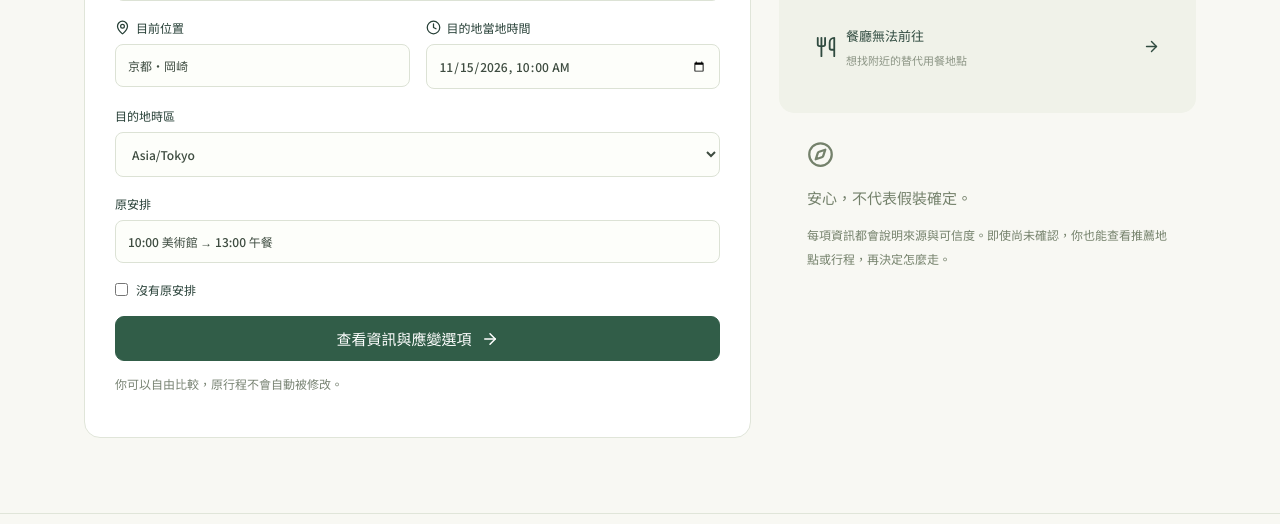
Test case: unknown recommendation can be selected and returned to comparison
(page scrolled)
Click the button "查看資訊與應變選項": (418, 338) [115,316,720,361]
(page scrolled)
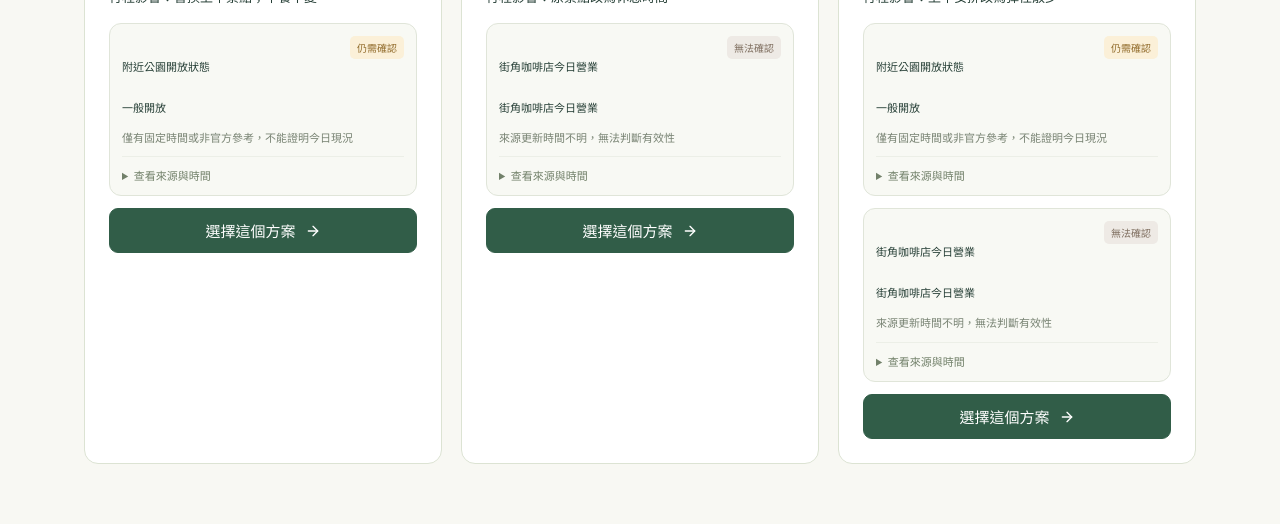
Result: the text "無法確認" below "原景點改為休息時間" is shown at [734,40,774,55]
Click the button "選擇這個方案" below "原景點改為休息時間": (640, 231) [486,208,794,253]
(page scrolled)
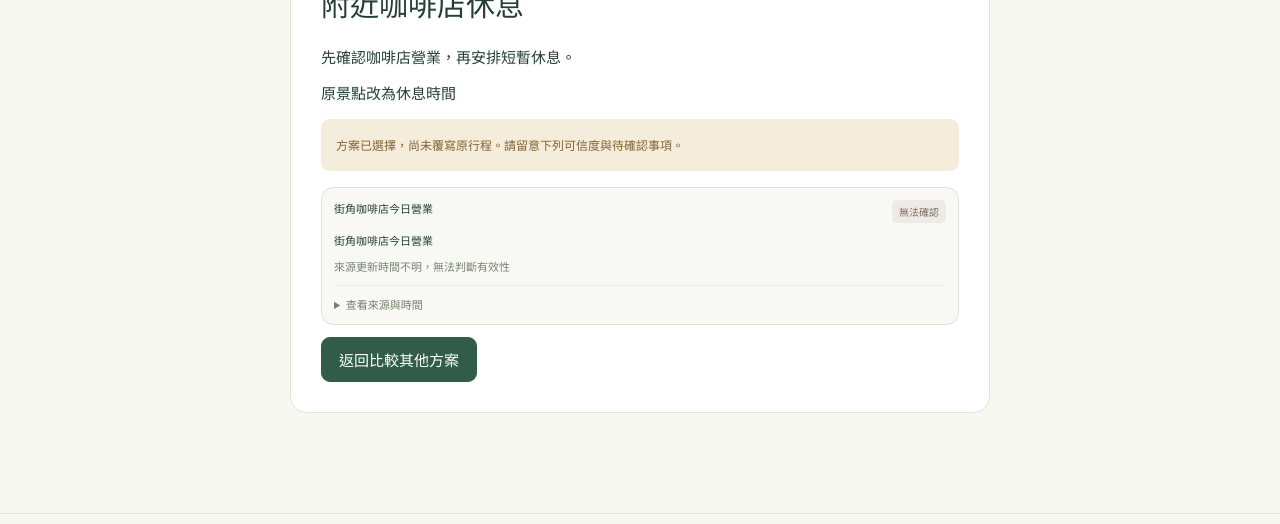
Result: the text "無法確認" is shown at [892,200,946,223]
Result: the text "方案已選擇，尚未覆寫原行程。請留意下列可信度與待確認事項。" is shown at [321,119,959,171]
Click the button "返回比較其他方案": (399, 360) [321,337,477,382]
(page scrolled)
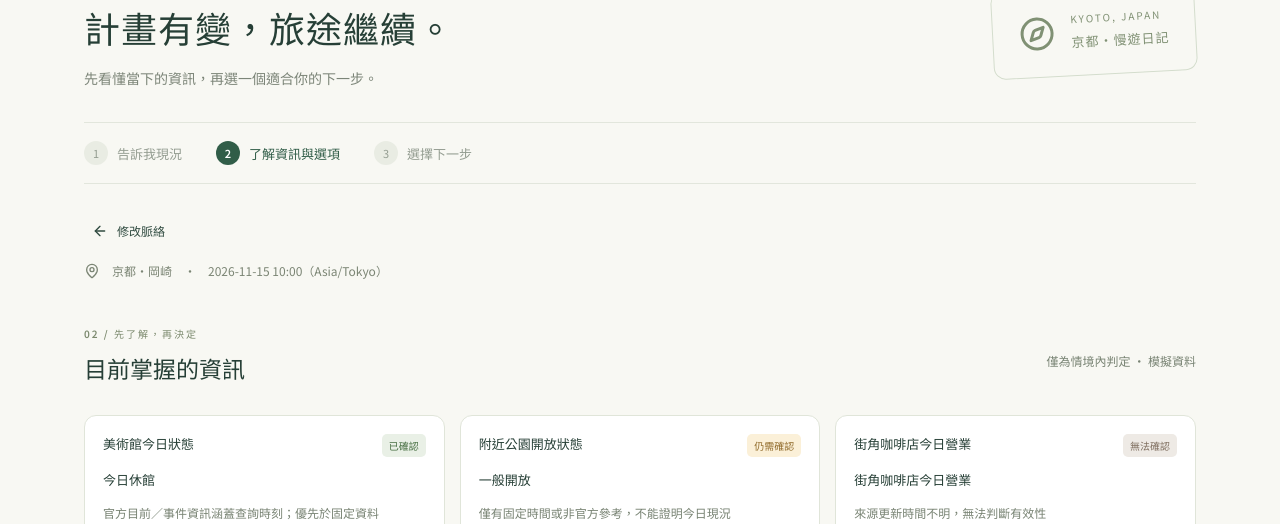
Click the button "修改脈絡": (128, 230) [84,214,173,247]
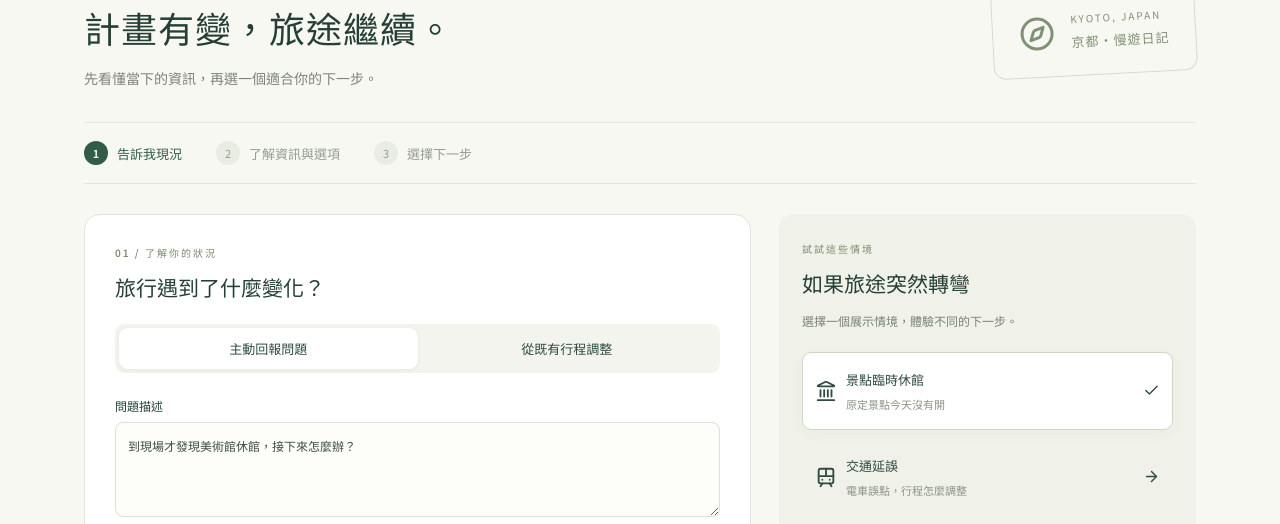
Result: the text box labelled "問題描述" holds "到現場才發現美術館休館，接下來怎麼辦？" at [115,422,720,517]
